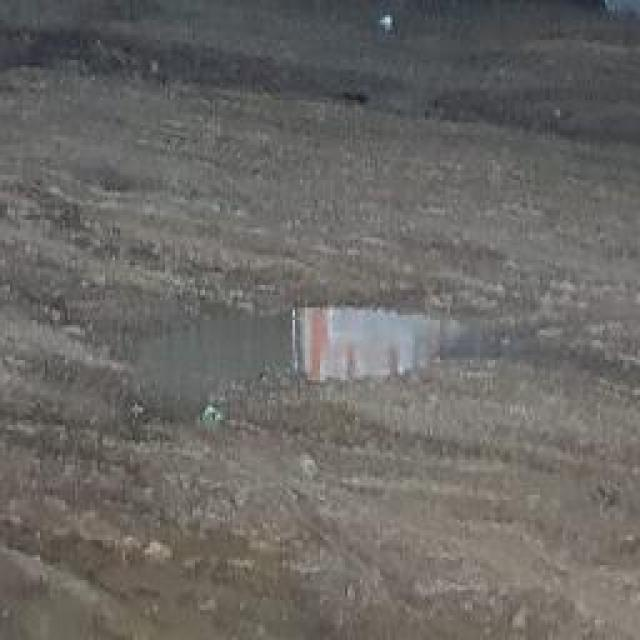waterlogging: (116, 285, 631, 411)
